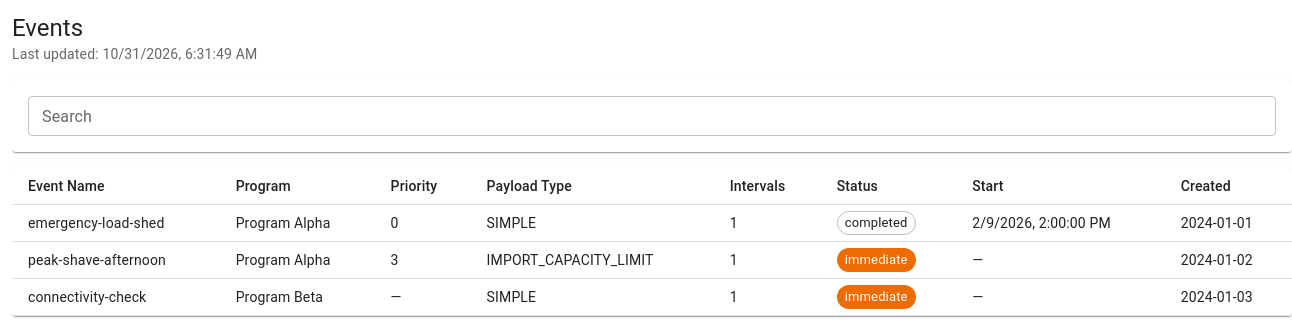
Test: EventsPage › shows empty state when no events match
This screenshot has width=1292, height=335.
Step 1. Type "zzz-no-match" into the field with test id "events-search" → (652, 116), box [28,96,1276,136]
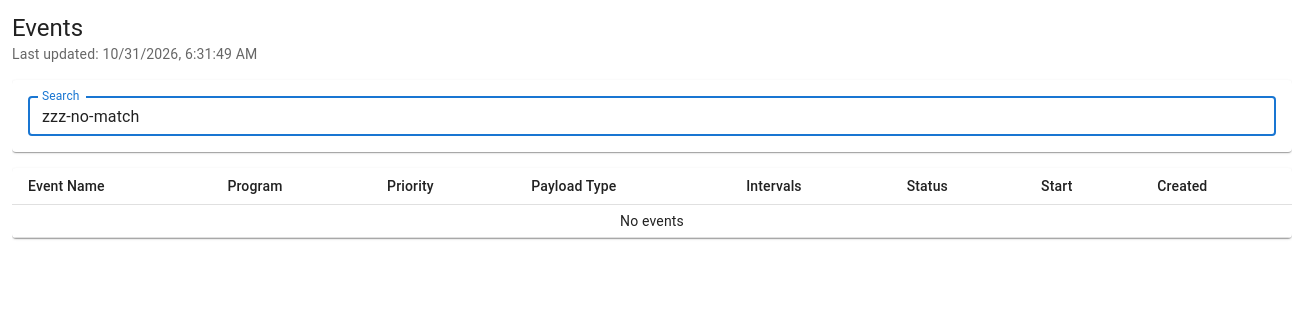
Now the cell with test id "events-empty" is shown, box [12,204,1291,238]
Now the cell with test id "events-empty" reads "No events", box [620,213,684,229]
